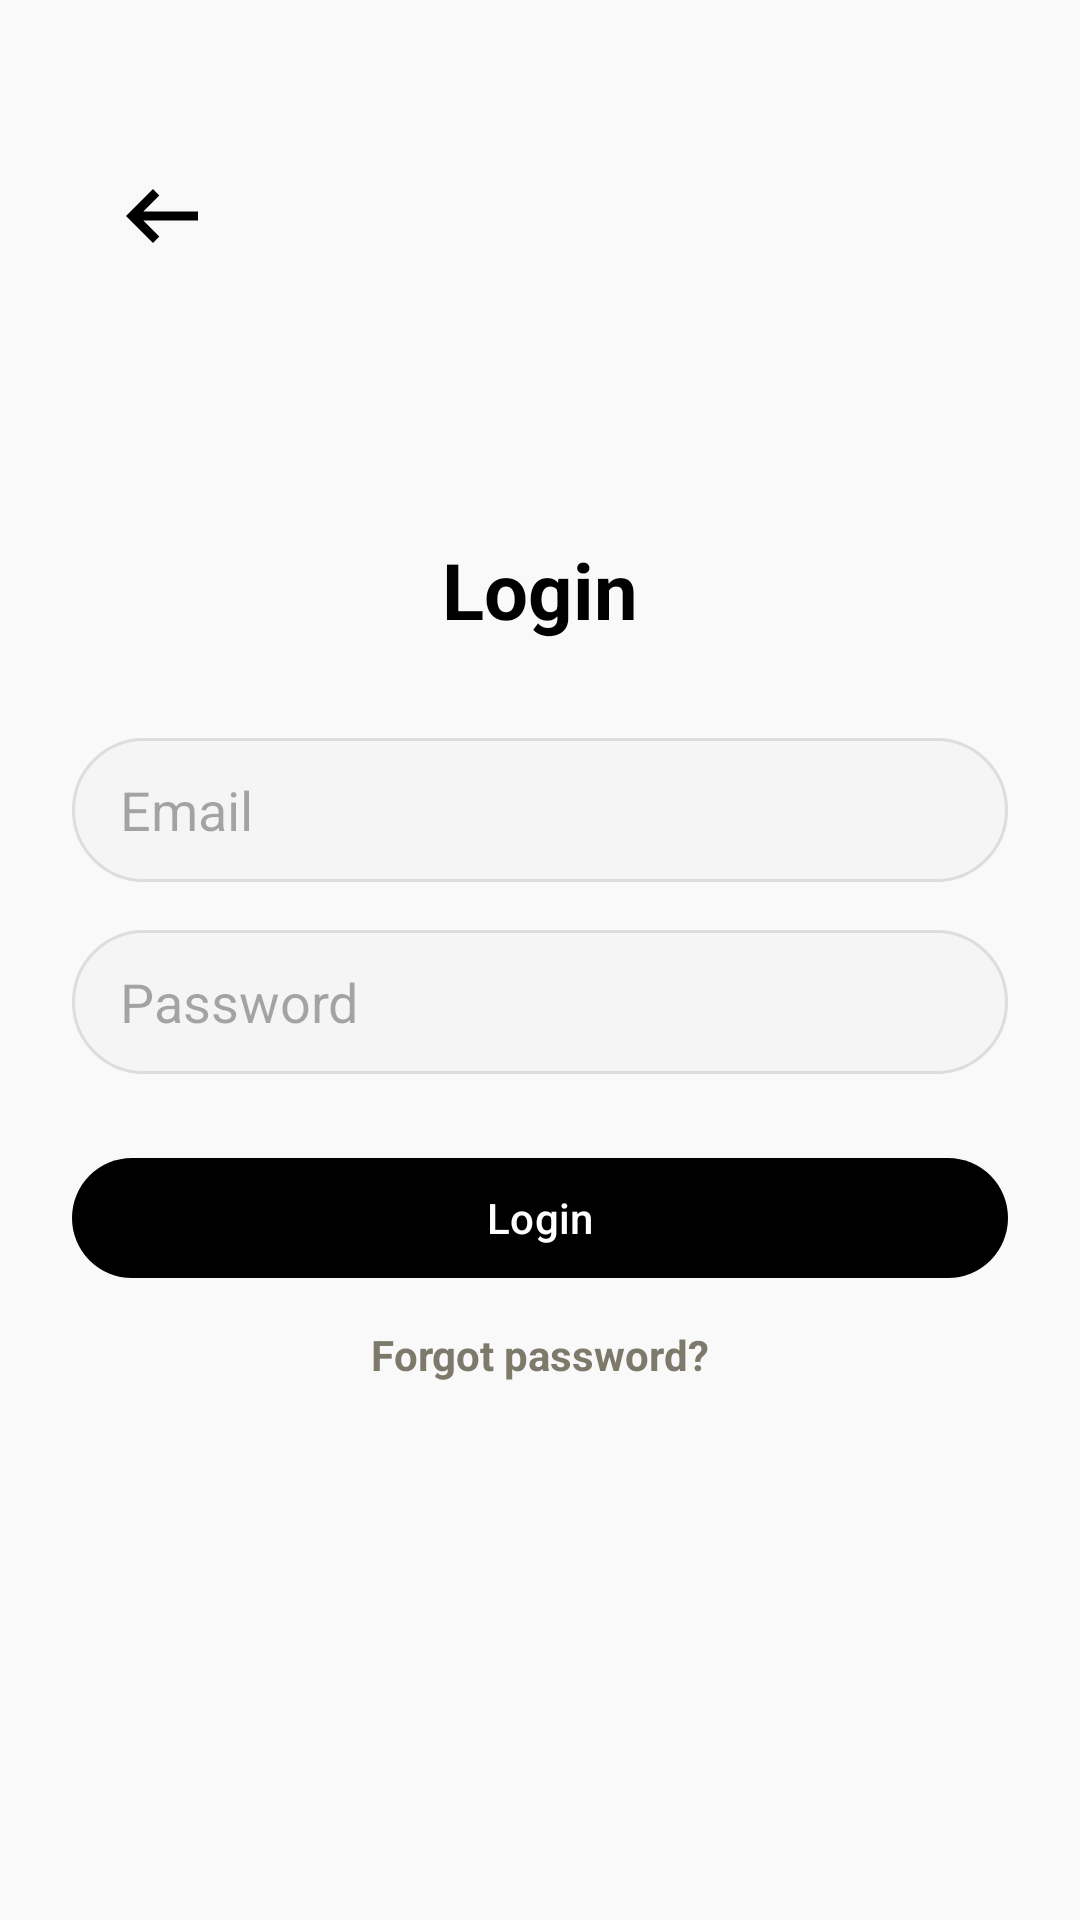

Icons on this 1080×1920 Android screen, each with its box as (x1, y1, x2, y2):
Back: (126, 189, 198, 243)
